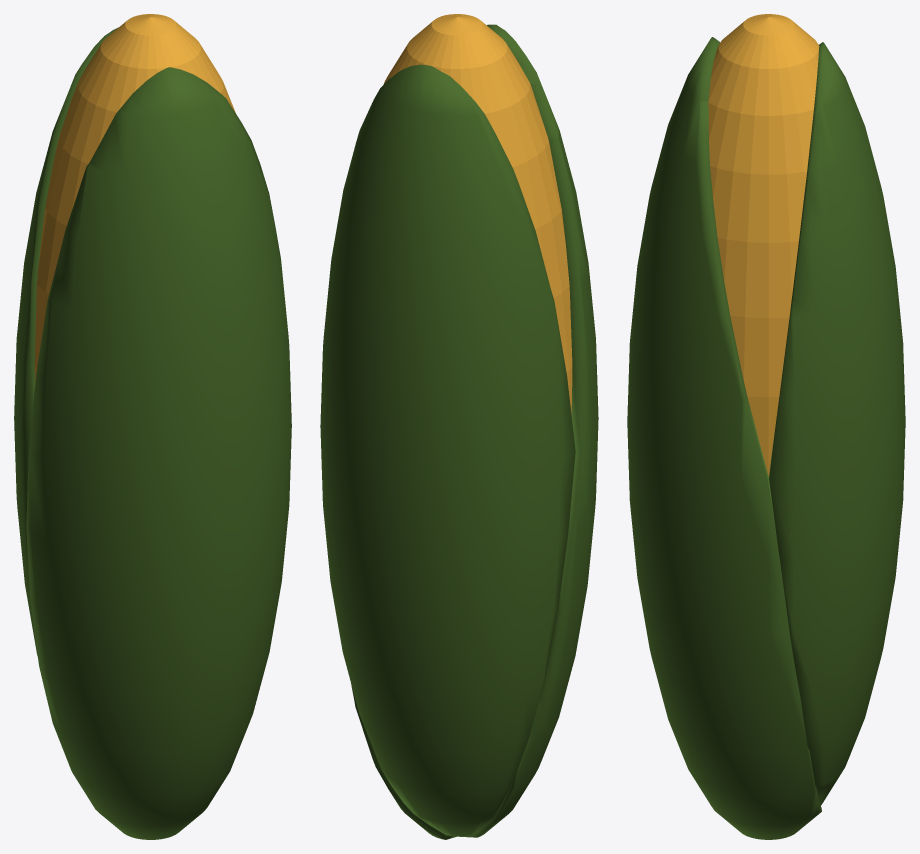
The model's file is just-corn.fbx.
3 renders of one model, left to right at view 1: azimuth 30°, elevation 25°; view 2: azimuth 150°, elevation 25°; view 3: azimuth 270°, elevation 25°, orthographic.
Parts seen in each view (by area): view 1: corn 1; view 2: corn 1; view 3: corn 1.
Boxes of the visible parts, box(x1,y1,x2,y2) form: corn 1: box(14, 14, 291, 839); corn 1: box(320, 14, 598, 839); corn 1: box(627, 14, 905, 839).
Bounding box in the file's own units: 91.09 × 291 × 89.67.
